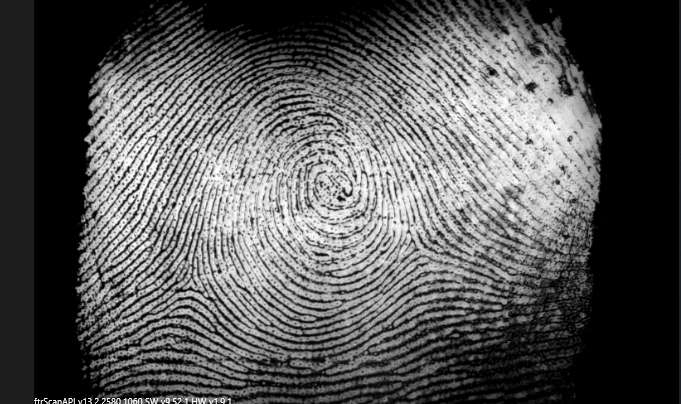deltas: (162, 248, 213, 313), (388, 215, 440, 266)
nucleo: (290, 145, 369, 220)
